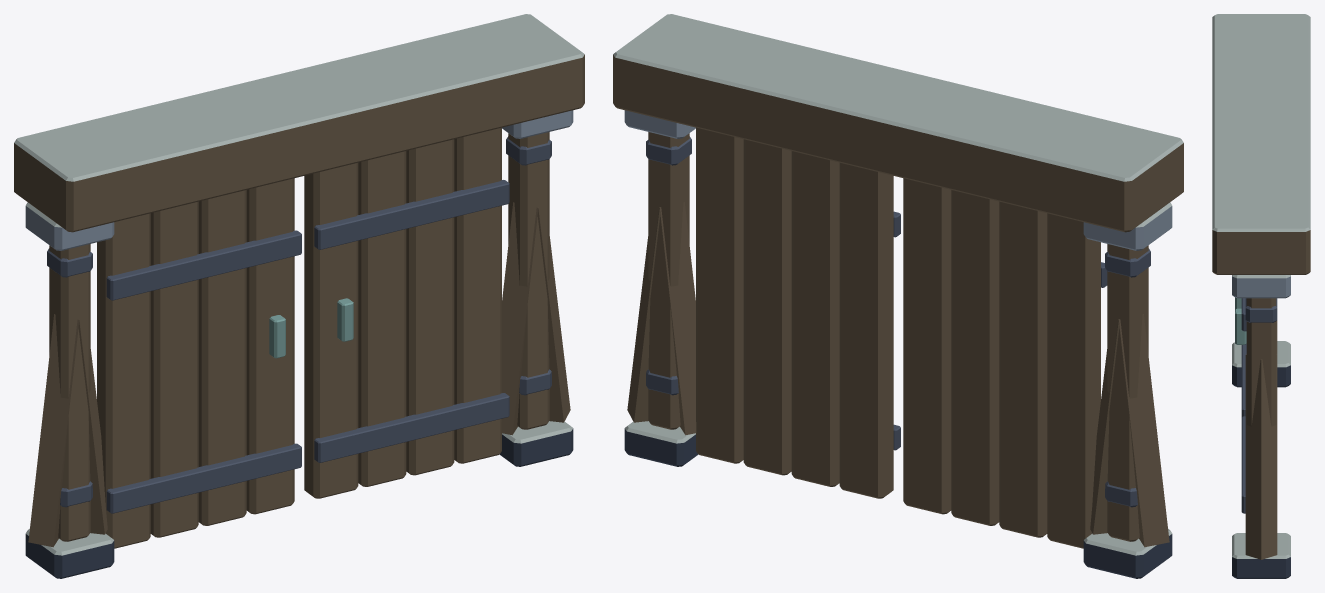
The model's file is doorway.glb.
3 views of the same model, side by side, from view 1: azimuth 30°, elevation 25°; view 2: azimuth 150°, elevation 25°; view 3: azimuth 270°, elevation 25° (orthographic). The views are drawn at different scales.
Parts seen in each view (by area): view 1: doorway__body, doorway__leaf-right, doorway__leaf-left; view 2: doorway__body, doorway__leaf-right, doorway__leaf-left; view 3: doorway__body, doorway__leaf-right, doorway__leaf-left.
Part boxes in pixels (x1,y1,x2,y2): doorway__body: [14, 14, 584, 578]; doorway__leaf-right: [304, 127, 509, 498]; doorway__leaf-left: [97, 178, 301, 548]; doorway__body: [613, 14, 1183, 578]; doorway__leaf-right: [696, 127, 900, 498]; doorway__leaf-left: [903, 178, 1107, 548]; doorway__body: [1212, 14, 1310, 578]; doorway__leaf-right: [1235, 298, 1246, 513]; doorway__leaf-left: [1235, 297, 1246, 417].
Size of the model in its own units: 2.72 by 1.96 by 0.5.
